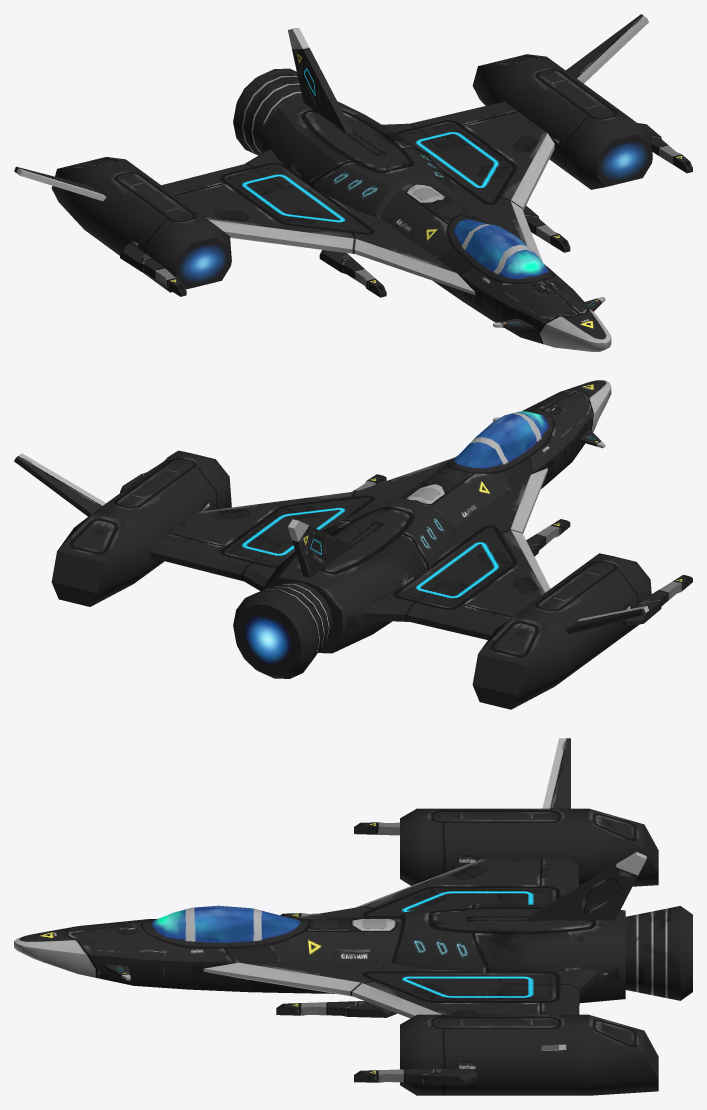
File: Ship2.fbx
3 views of the same model, one above another, from view 1: azimuth 30°, elevation 25°; view 2: azimuth 150°, elevation 25°; view 3: azimuth 270°, elevation 25° (orthographic).
Visible parts, largest first — view 1: StarSparrow02; view 2: StarSparrow02; view 3: StarSparrow02.
Part boxes in pixels (<box>): StarSparrow02: <box>14,14,692,351</box>; StarSparrow02: <box>14,380,692,709</box>; StarSparrow02: <box>14,738,692,1095</box>.
Size of the model in its own units: 1166 by 252 by 1085.
1 material, 1 textured.
